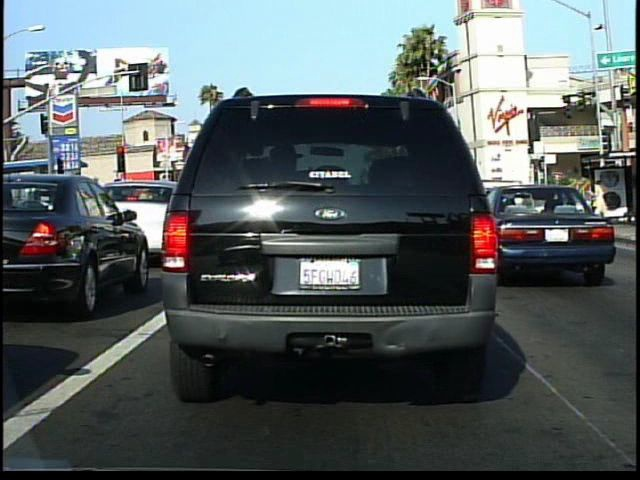person: (588, 170, 613, 226)
